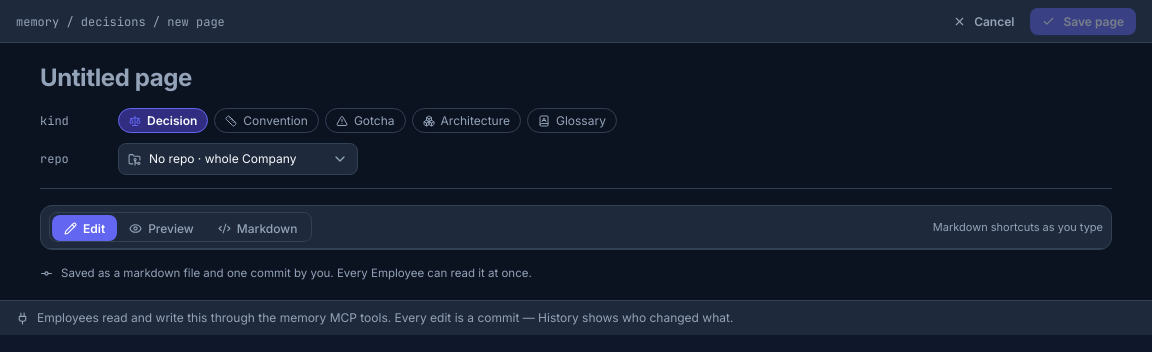
Test: writing a new page › follows the chosen kind into its own folder
Click the button with class "memory-editor__kind" showing "Architecture": [466, 120] box [412,108,521,133]
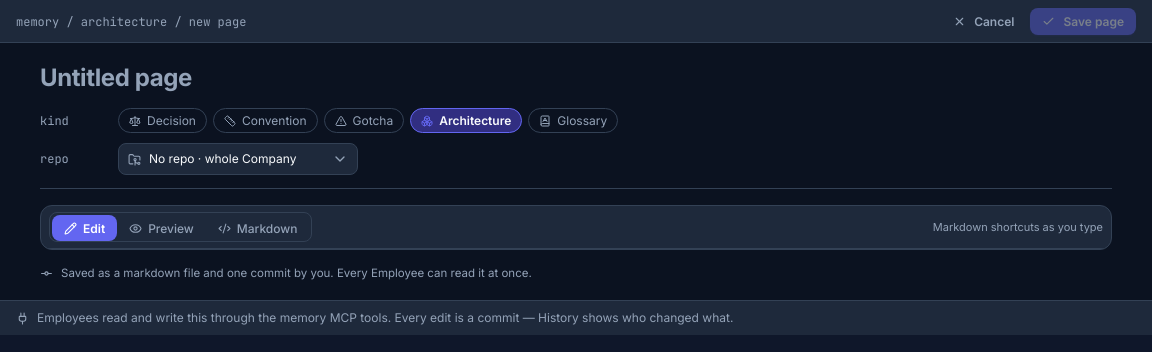
Expected: the text with class "memory-page__path" reads "memory / architecture / new page", [16,14,246,30]
Click the button with class "memory-editor__kind" showing "Gotcha": [364, 120] box [324,108,404,133]
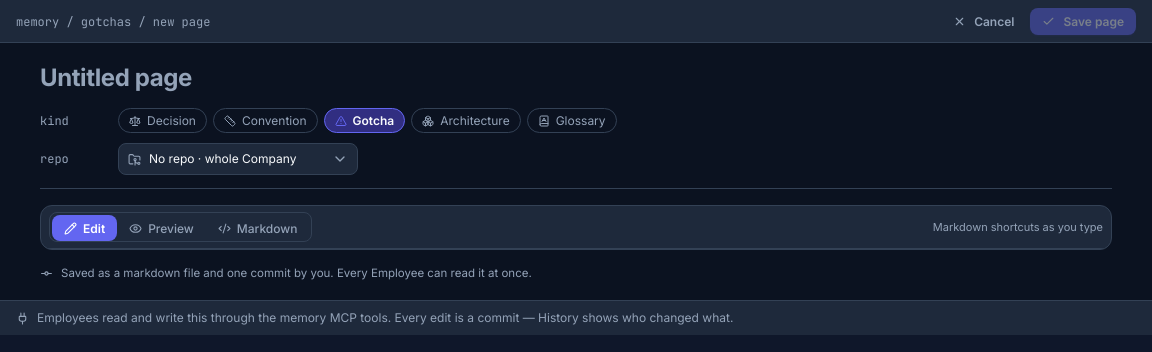
Expected: the text with class "memory-page__path" reads "memory / gotchas / new page", [16,14,210,30]
